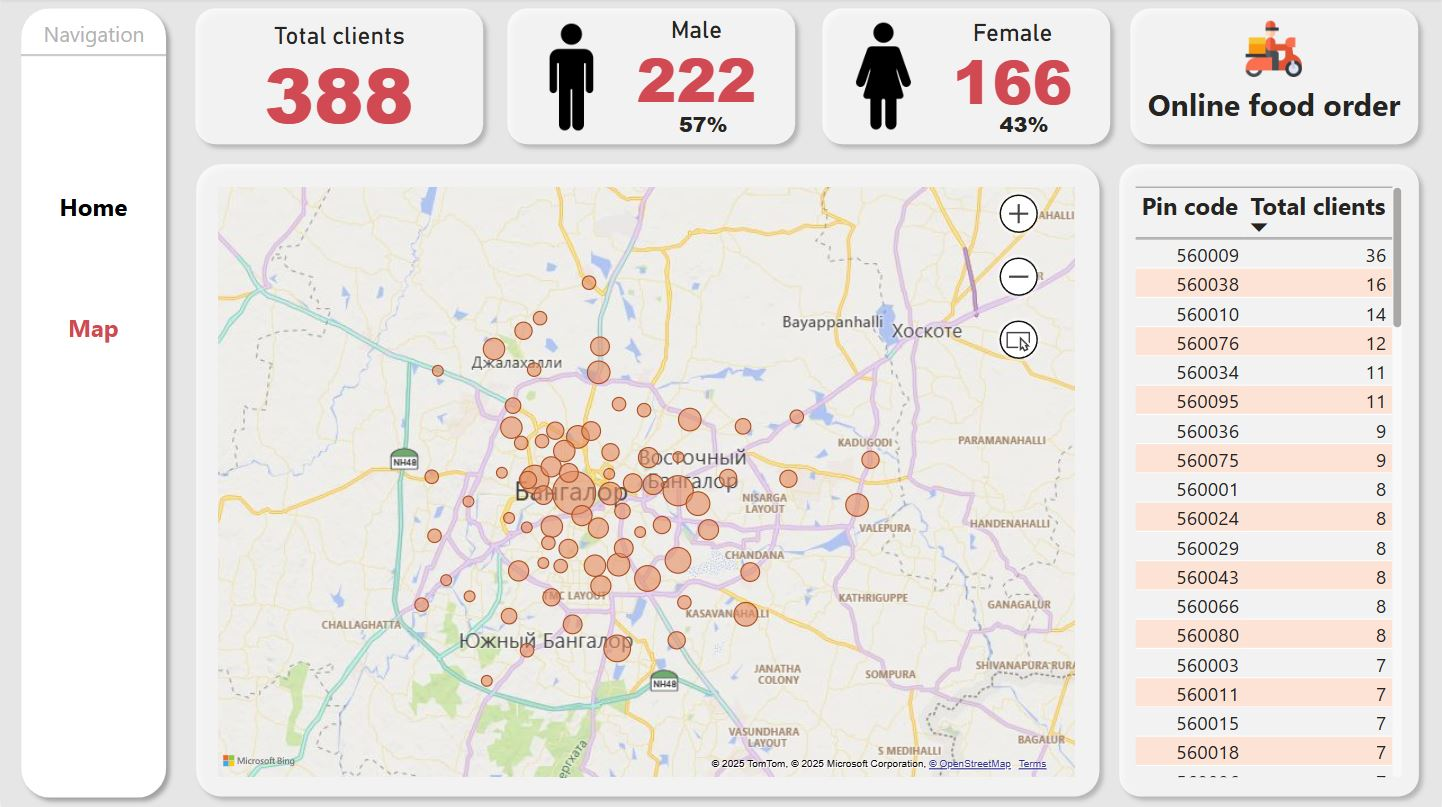

Layout of this report page (visuals, bound fields, positions):
{"tool":"powerbi","page":{"name":"Map","canvas":[1280,720],"ordinal":1},"visuals":[{"type":"shape","box":[8.8,0,146.9,719.8],"z":0},{"type":"shape","box":[163.4,0,274.3,139.1],"z":1000,"group":"g4"},{"type":"group","id":"g1","title":"Группа 2","box":[720.7,0,274.3,139.1],"z":1000},{"type":"shape","box":[440.6,0,274.3,139.1],"z":2000,"group":"g2"},{"type":"shape","box":[164.1,138.7,821.3,580.3],"z":2000},{"type":"group","id":"g2","title":"Группа 6","box":[440.6,0,274.3,139.1],"z":3000},{"type":"shape","box":[720.7,0,274.3,139.1],"z":3000,"group":"g1"},{"type":"group","id":"g3","title":"Группа 7","box":[995,0,274.3,139.1],"z":4000},{"type":"shape","box":[995,0,274.3,139.1],"z":4000,"group":"g3"},{"type":"group","id":"g4","title":"Группа 8","box":[163.4,0,274.3,139.1],"z":5000},{"type":"textbox","box":[1002.8,71,257.8,59.3],"z":5000,"group":"g3"},{"type":"image","box":[1102,14.6,60.3,62.2],"z":6000,"group":"g3"},{"type":"map","fields":{"X":["onlinefoods.longitude"],"Y":["onlinefoods.latitude"],"Size":["All Measures.Total clients"]},"box":[187.3,163,771.6,534.7],"z":6000},{"type":"card","title":"Total clients","fields":{"Values":["All Measures.Total clients"]},"box":[179,20.4,242.2,98.2],"z":7000,"group":"g4"},{"type":"shape","box":[985.3,138.7,284.6,580.3],"z":7000},{"type":"card","title":"Male","fields":{"Values":["All Measures.Male"]},"box":[545.4,14.8,144.8,85.7],"z":8000,"group":"g2"},{"type":"tableEx","fields":{"Values":["onlinefoods.Pin code","All Measures.Total clients"]},"box":[1003.1,162.6,248.3,535.1],"z":8000},{"type":"card","title":"Female","fields":{"Values":["All Measures.Female"]},"box":[825.4,17.7,146.8,82.8],"z":9000,"group":"g1"},{"type":"actionButton","box":[32.1,170.2,100.2,30.2],"z":9000},{"type":"image","box":[451.3,17.5,111.9,105],"z":10000,"group":"g2"},{"type":"actionButton","box":[32.1,277.2,100.2,30.2],"z":10000},{"type":"textbox","box":[26.3,14.6,111.9,37],"z":11000},{"type":"image","box":[728.5,16.5,111.9,105],"z":11000,"group":"g1"},{"type":"shape","box":[17.5,44.7,129.4,12.6],"z":12000},{"type":"card","fields":{"Values":["All Measures.% male"]},"box":[595.7,96.6,57.2,33.5],"z":12000,"group":"g2"},{"type":"card","fields":{"Values":["All Measures.% female"]},"box":[881.6,96.6,55.2,33.5],"z":13000,"group":"g1"}]}

Visuals, with their boxes in screenshot pixels (x1, y1, x2, y2), scaled from the page's 1280x720 canvas onto the 1442x807 screenshot:
shape: box=[10, 0, 175, 806]
shape: box=[184, 0, 493, 156]
"Группа 2" group: box=[812, 0, 1121, 156]
shape: box=[496, 0, 805, 156]
shape: box=[185, 155, 1110, 806]
"Группа 6" group: box=[496, 0, 805, 156]
shape: box=[812, 0, 1121, 156]
"Группа 7" group: box=[1121, 0, 1430, 156]
shape: box=[1121, 0, 1430, 156]
"Группа 8" group: box=[184, 0, 493, 156]
textbox: box=[1130, 80, 1420, 146]
image: box=[1241, 16, 1309, 86]
map - onlinefoods.longitude x onlinefoods.latitude: box=[211, 183, 1080, 782]
"Total clients" card: box=[202, 23, 475, 133]
shape: box=[1110, 155, 1431, 806]
"Male" card: box=[614, 17, 778, 113]
tableEx - onlinefoods.Pin code x All Measures.Total clients: box=[1130, 182, 1410, 782]
"Female" card: box=[930, 20, 1095, 113]
actionButton: box=[36, 191, 149, 225]
image: box=[508, 20, 634, 137]
actionButton: box=[36, 311, 149, 345]
textbox: box=[30, 16, 156, 58]
image: box=[821, 18, 947, 136]
shape: box=[20, 50, 165, 64]
card - All Measures.% male: box=[671, 108, 736, 146]
card - All Measures.% female: box=[993, 108, 1055, 146]
